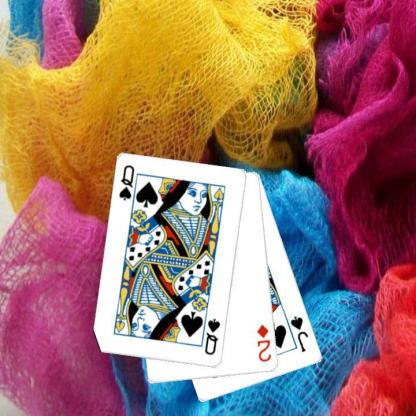2D: (255, 322, 273, 364)
JS: (288, 314, 310, 354)
QS: (202, 316, 222, 357), (116, 162, 136, 202)
